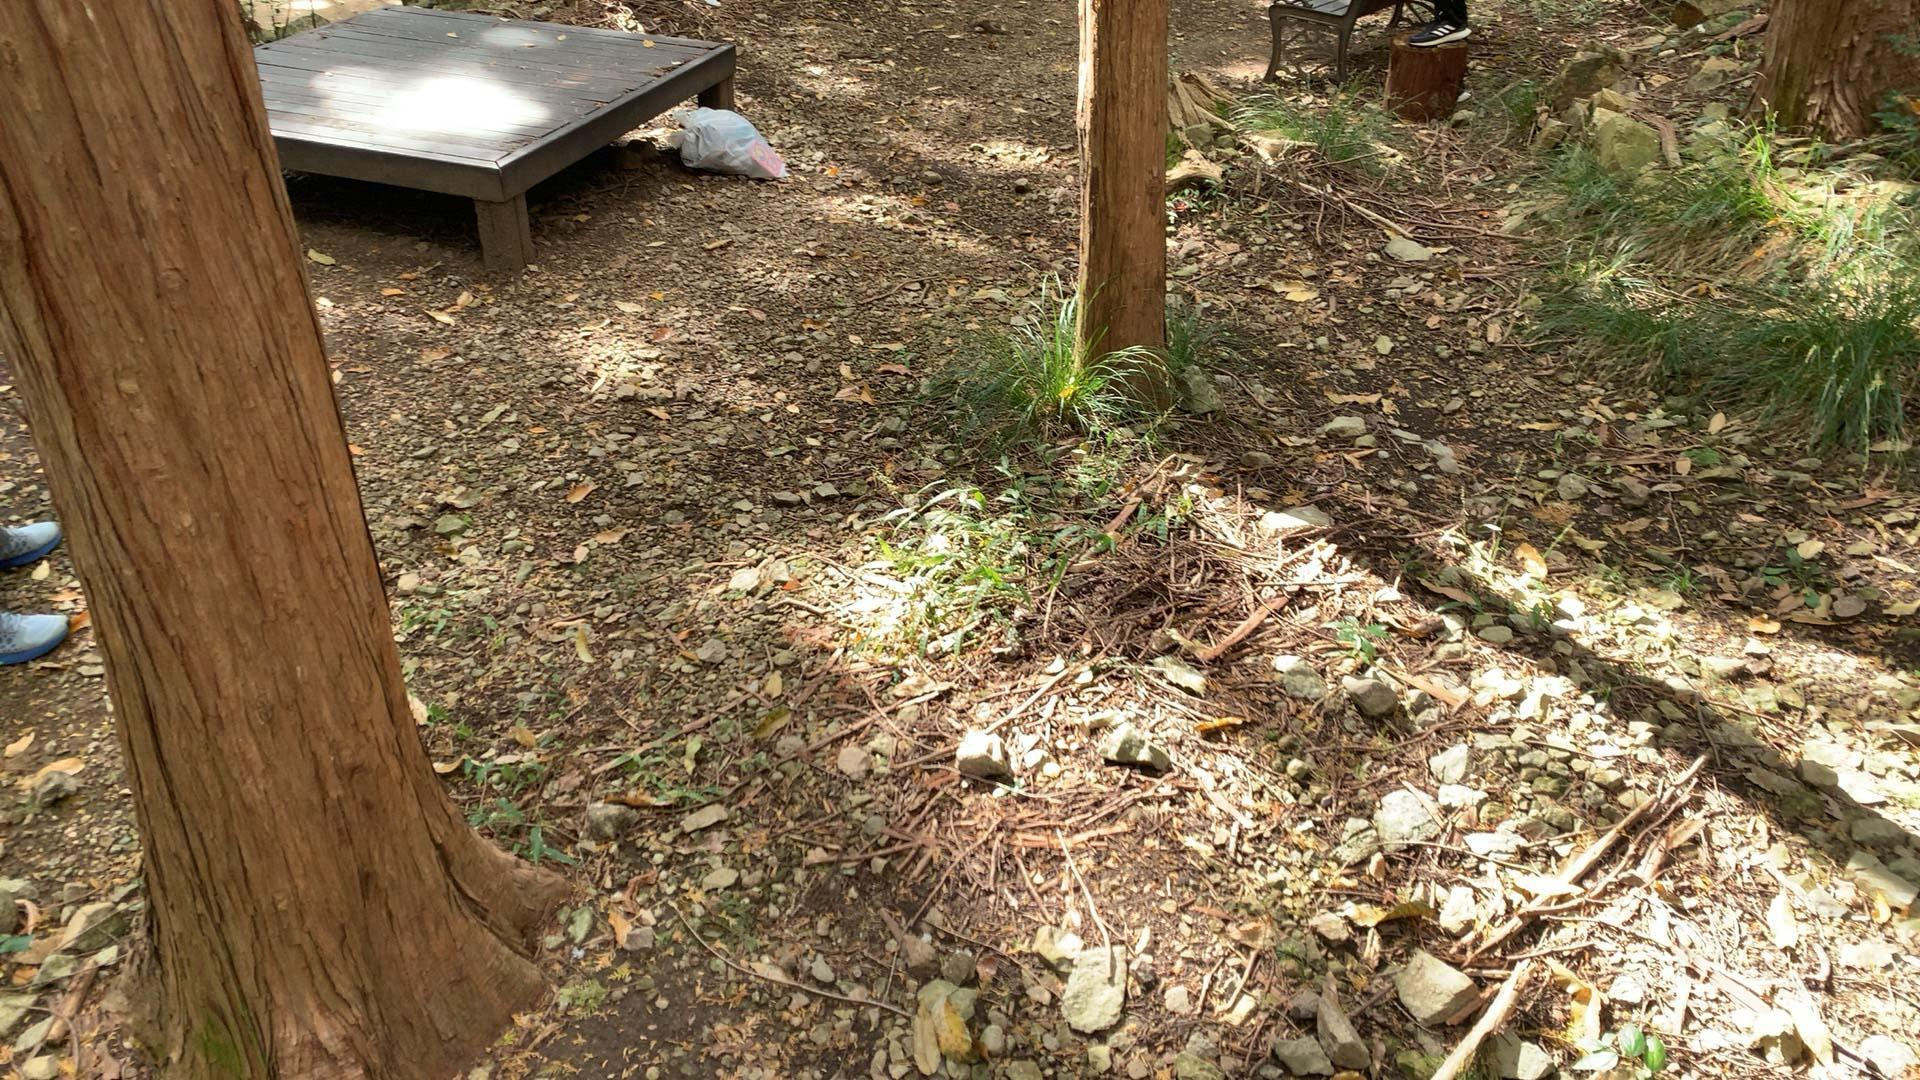white_bag: (669, 102, 795, 183)
